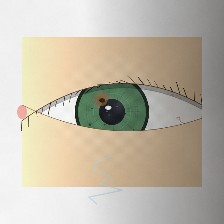foreign_body_visible: (88, 89, 117, 112)
